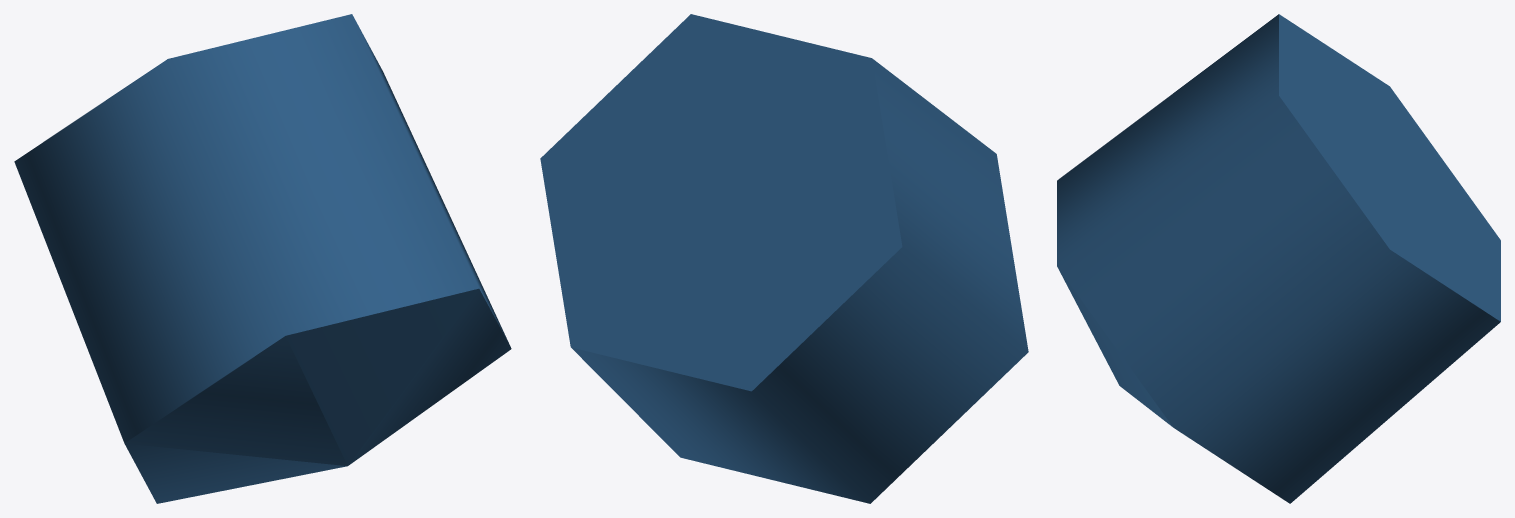
Rendered from rm2_arm_l_wrist.obj.
3 renders of one model, left to right at view 1: azimuth 30°, elevation 25°; view 2: azimuth 150°, elevation 25°; view 3: azimuth 270°, elevation 25°, orthographic. The views are drawn at different scales.
Parts seen in each view (by area): view 1: rm2_arm_l_wrist; view 2: rm2_arm_l_wrist; view 3: rm2_arm_l_wrist.
Boxes of the visible parts, box(x1,y1,x2,y2) form: rm2_arm_l_wrist: box(14, 14, 511, 503); rm2_arm_l_wrist: box(540, 14, 1028, 503); rm2_arm_l_wrist: box(1057, 14, 1500, 503).
Bounding box in the file's own units: 0.084 × 0.0929 × 0.092.
